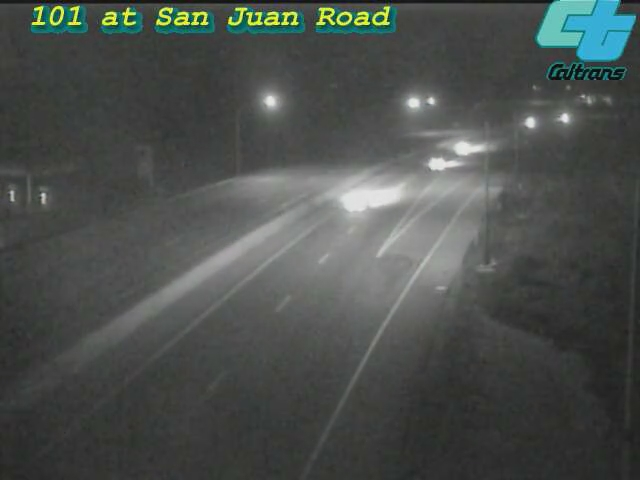vehicle: (397, 123, 477, 203), (317, 165, 397, 245), (503, 98, 553, 148), (540, 93, 590, 143), (435, 123, 485, 173)
